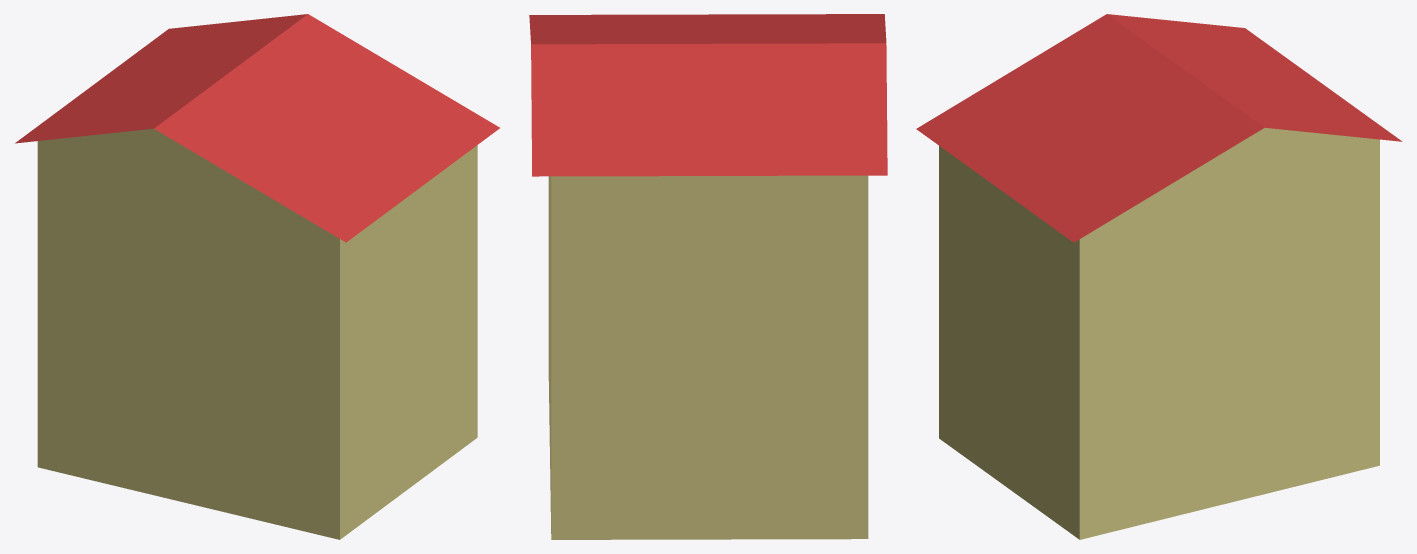
3 views of the same model, side by side, from view 1: azimuth 30°, elevation 25°; view 2: azimuth 150°, elevation 25°; view 3: azimuth 270°, elevation 25° (orthographic). The views are drawn at different scales.
Bounding box in the file's own units: 6.85 × 7.21 × 6.12.
